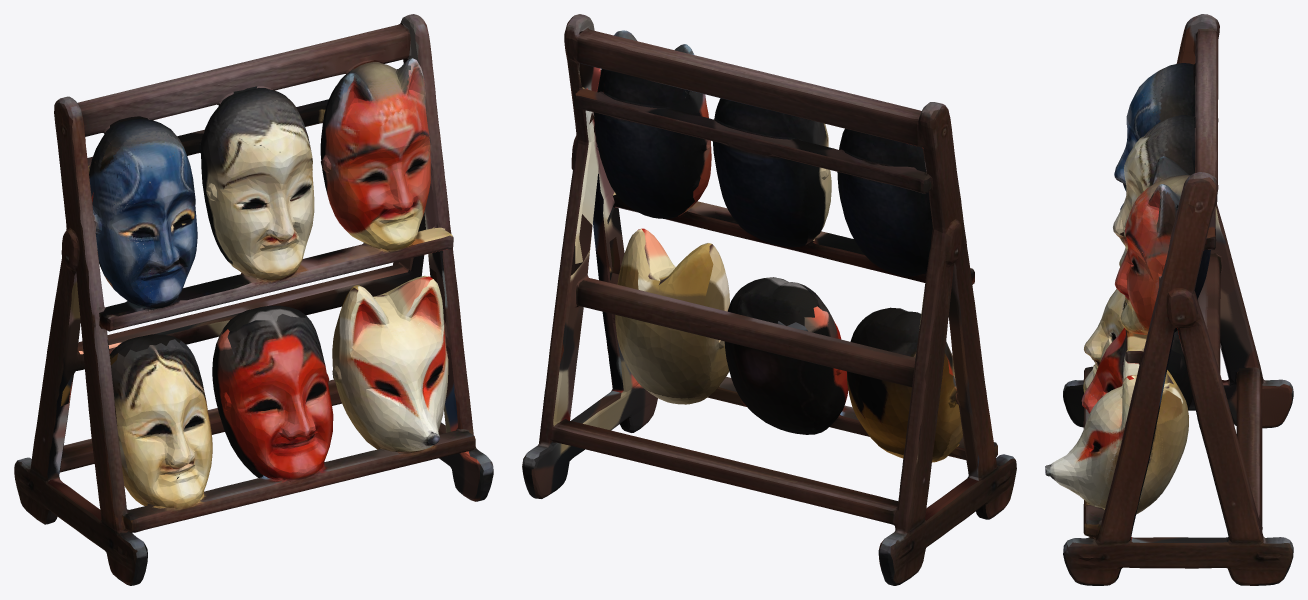
File: traveler_env_coast_kamen_mask_display_00001_.glb
3 renders of one model, left to right at view 1: azimuth 30°, elevation 25°; view 2: azimuth 150°, elevation 25°; view 3: azimuth 270°, elevation 25°, orthographic. The views are drawn at different scales.
Visible parts, largest first — view 1: temp_mesh.ply; view 2: temp_mesh.ply; view 3: temp_mesh.ply.
Part boxes in pixels (<box>): temp_mesh.ply: <box>14,14,493,585</box>; temp_mesh.ply: <box>522,14,1016,585</box>; temp_mesh.ply: <box>1045,14,1293,585</box>.
Bounding box in the file's own units: 1.73 × 1.98 × 1.08.
1 material, 1 textured.
